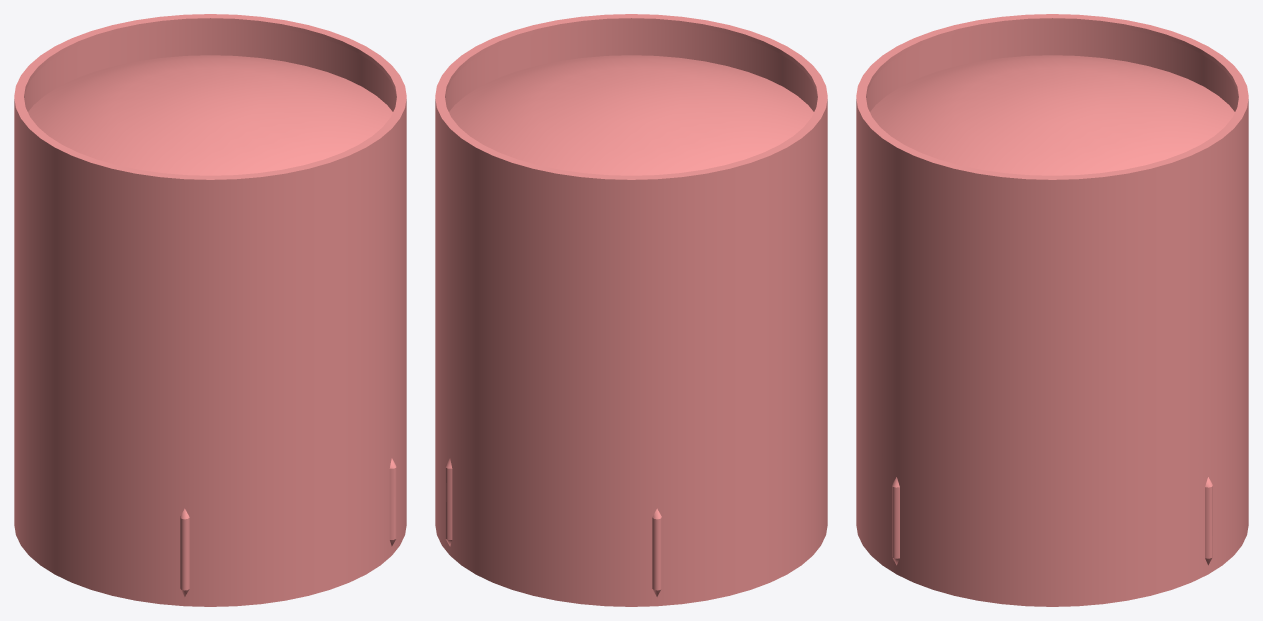
The model's file is RLV_1_LFO_3.obj.
3 views of the same model, side by side, from view 1: azimuth 30°, elevation 25°; view 2: azimuth 150°, elevation 25°; view 3: azimuth 270°, elevation 25° (orthographic).
Visible parts, largest first — view 1: RLV_1_LFO_4; view 2: RLV_1_LFO_4; view 3: RLV_1_LFO_4.
Part boxes in pixels (<box>): RLV_1_LFO_4: <box>14,14,406,606</box>; RLV_1_LFO_4: <box>435,14,827,606</box>; RLV_1_LFO_4: <box>856,14,1248,606</box>.
Bounding box in the file's own units: 5 × 6 × 5.
